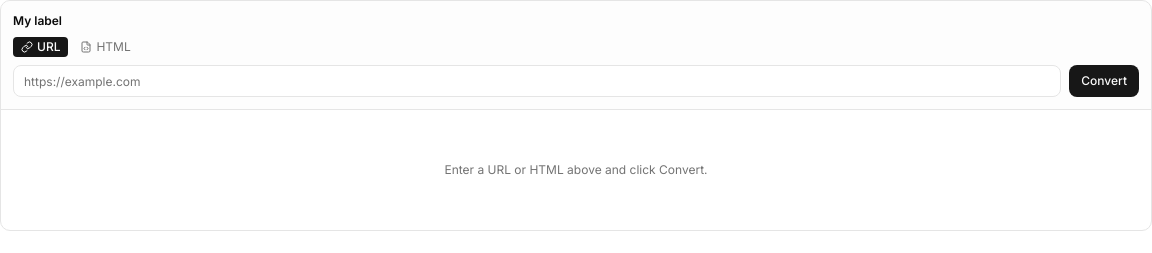
Test: PageSidePanel › opens the label editor when the label button is clicked
Click the button "My label": {"x": 46, "y": 21} left=13, top=13, right=80, bottom=29
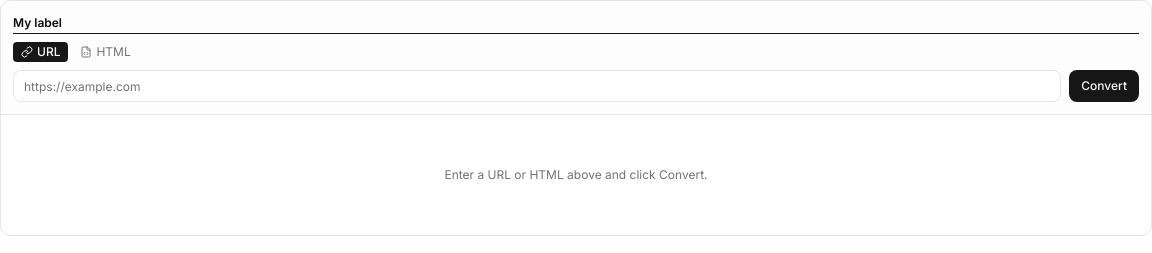
Check: the field showing "My label" is shown, box left=13, top=13, right=1139, bottom=34
